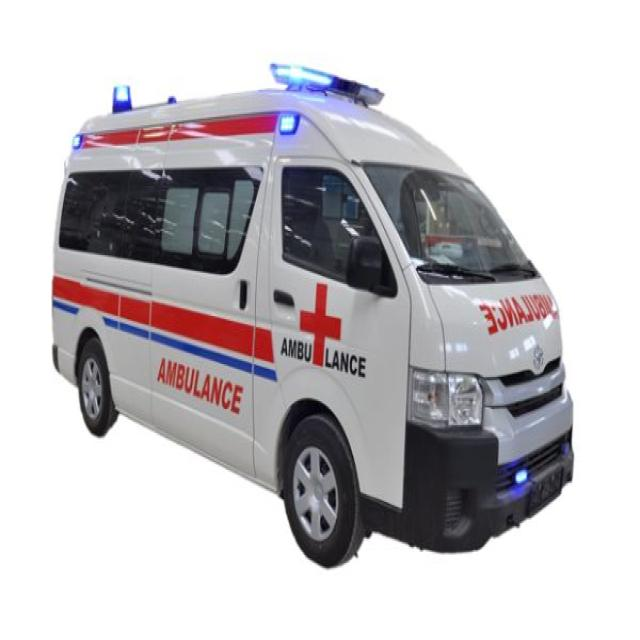ambulance: (50, 61, 575, 571)
